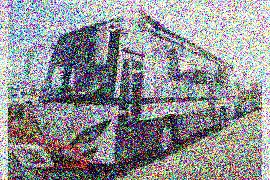bus: (29, 16, 234, 166)
